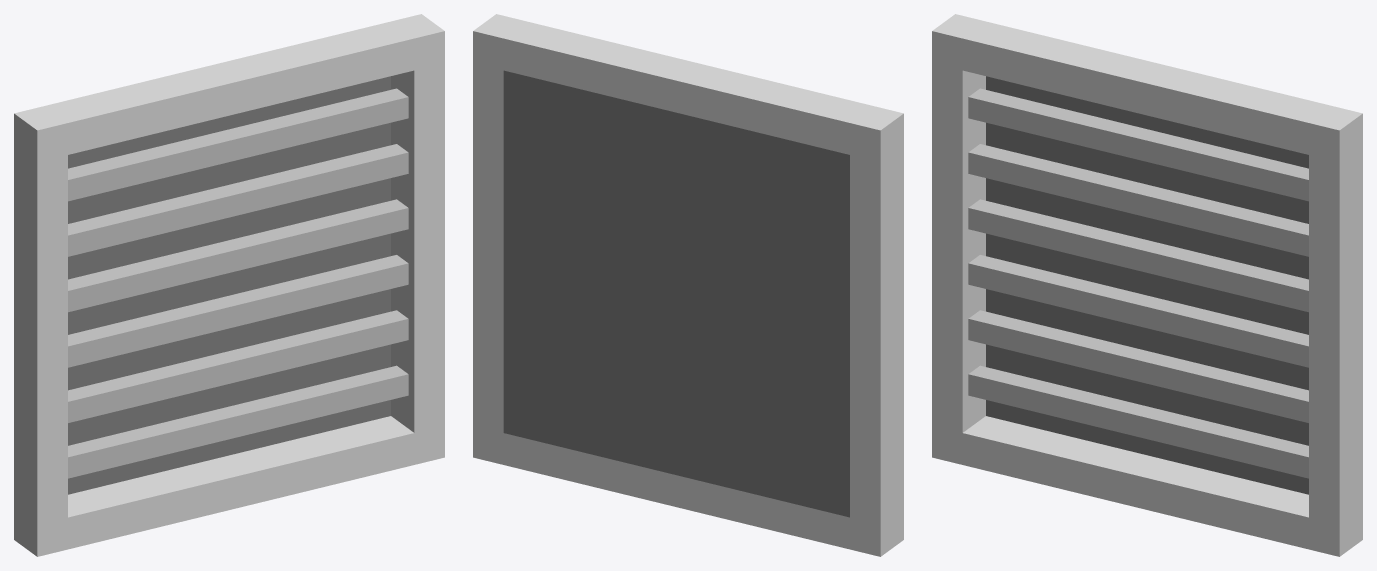
File: Ventilation_01.fbx
3 views of the same model, side by side, from view 1: azimuth 30°, elevation 25°; view 2: azimuth 150°, elevation 25°; view 3: azimuth 330°, elevation 25° (orthographic).
Visible parts, largest first — view 1: Ventilation_01; view 2: Ventilation_01; view 3: Ventilation_01.
Part boxes in pixels (<box>): Ventilation_01: <box>14,14,444,556</box>; Ventilation_01: <box>473,14,903,556</box>; Ventilation_01: <box>932,14,1362,556</box>.
Size of the model in its own units: 20 by 20 by 1.98.
